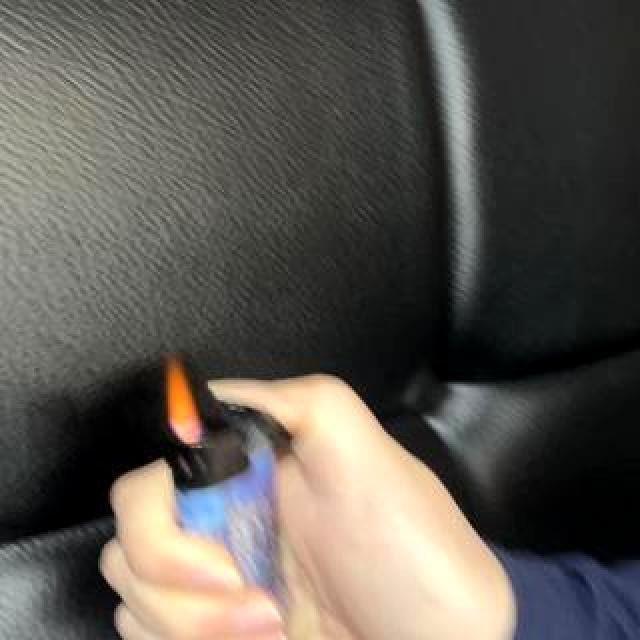fire: (164, 359, 204, 445)
